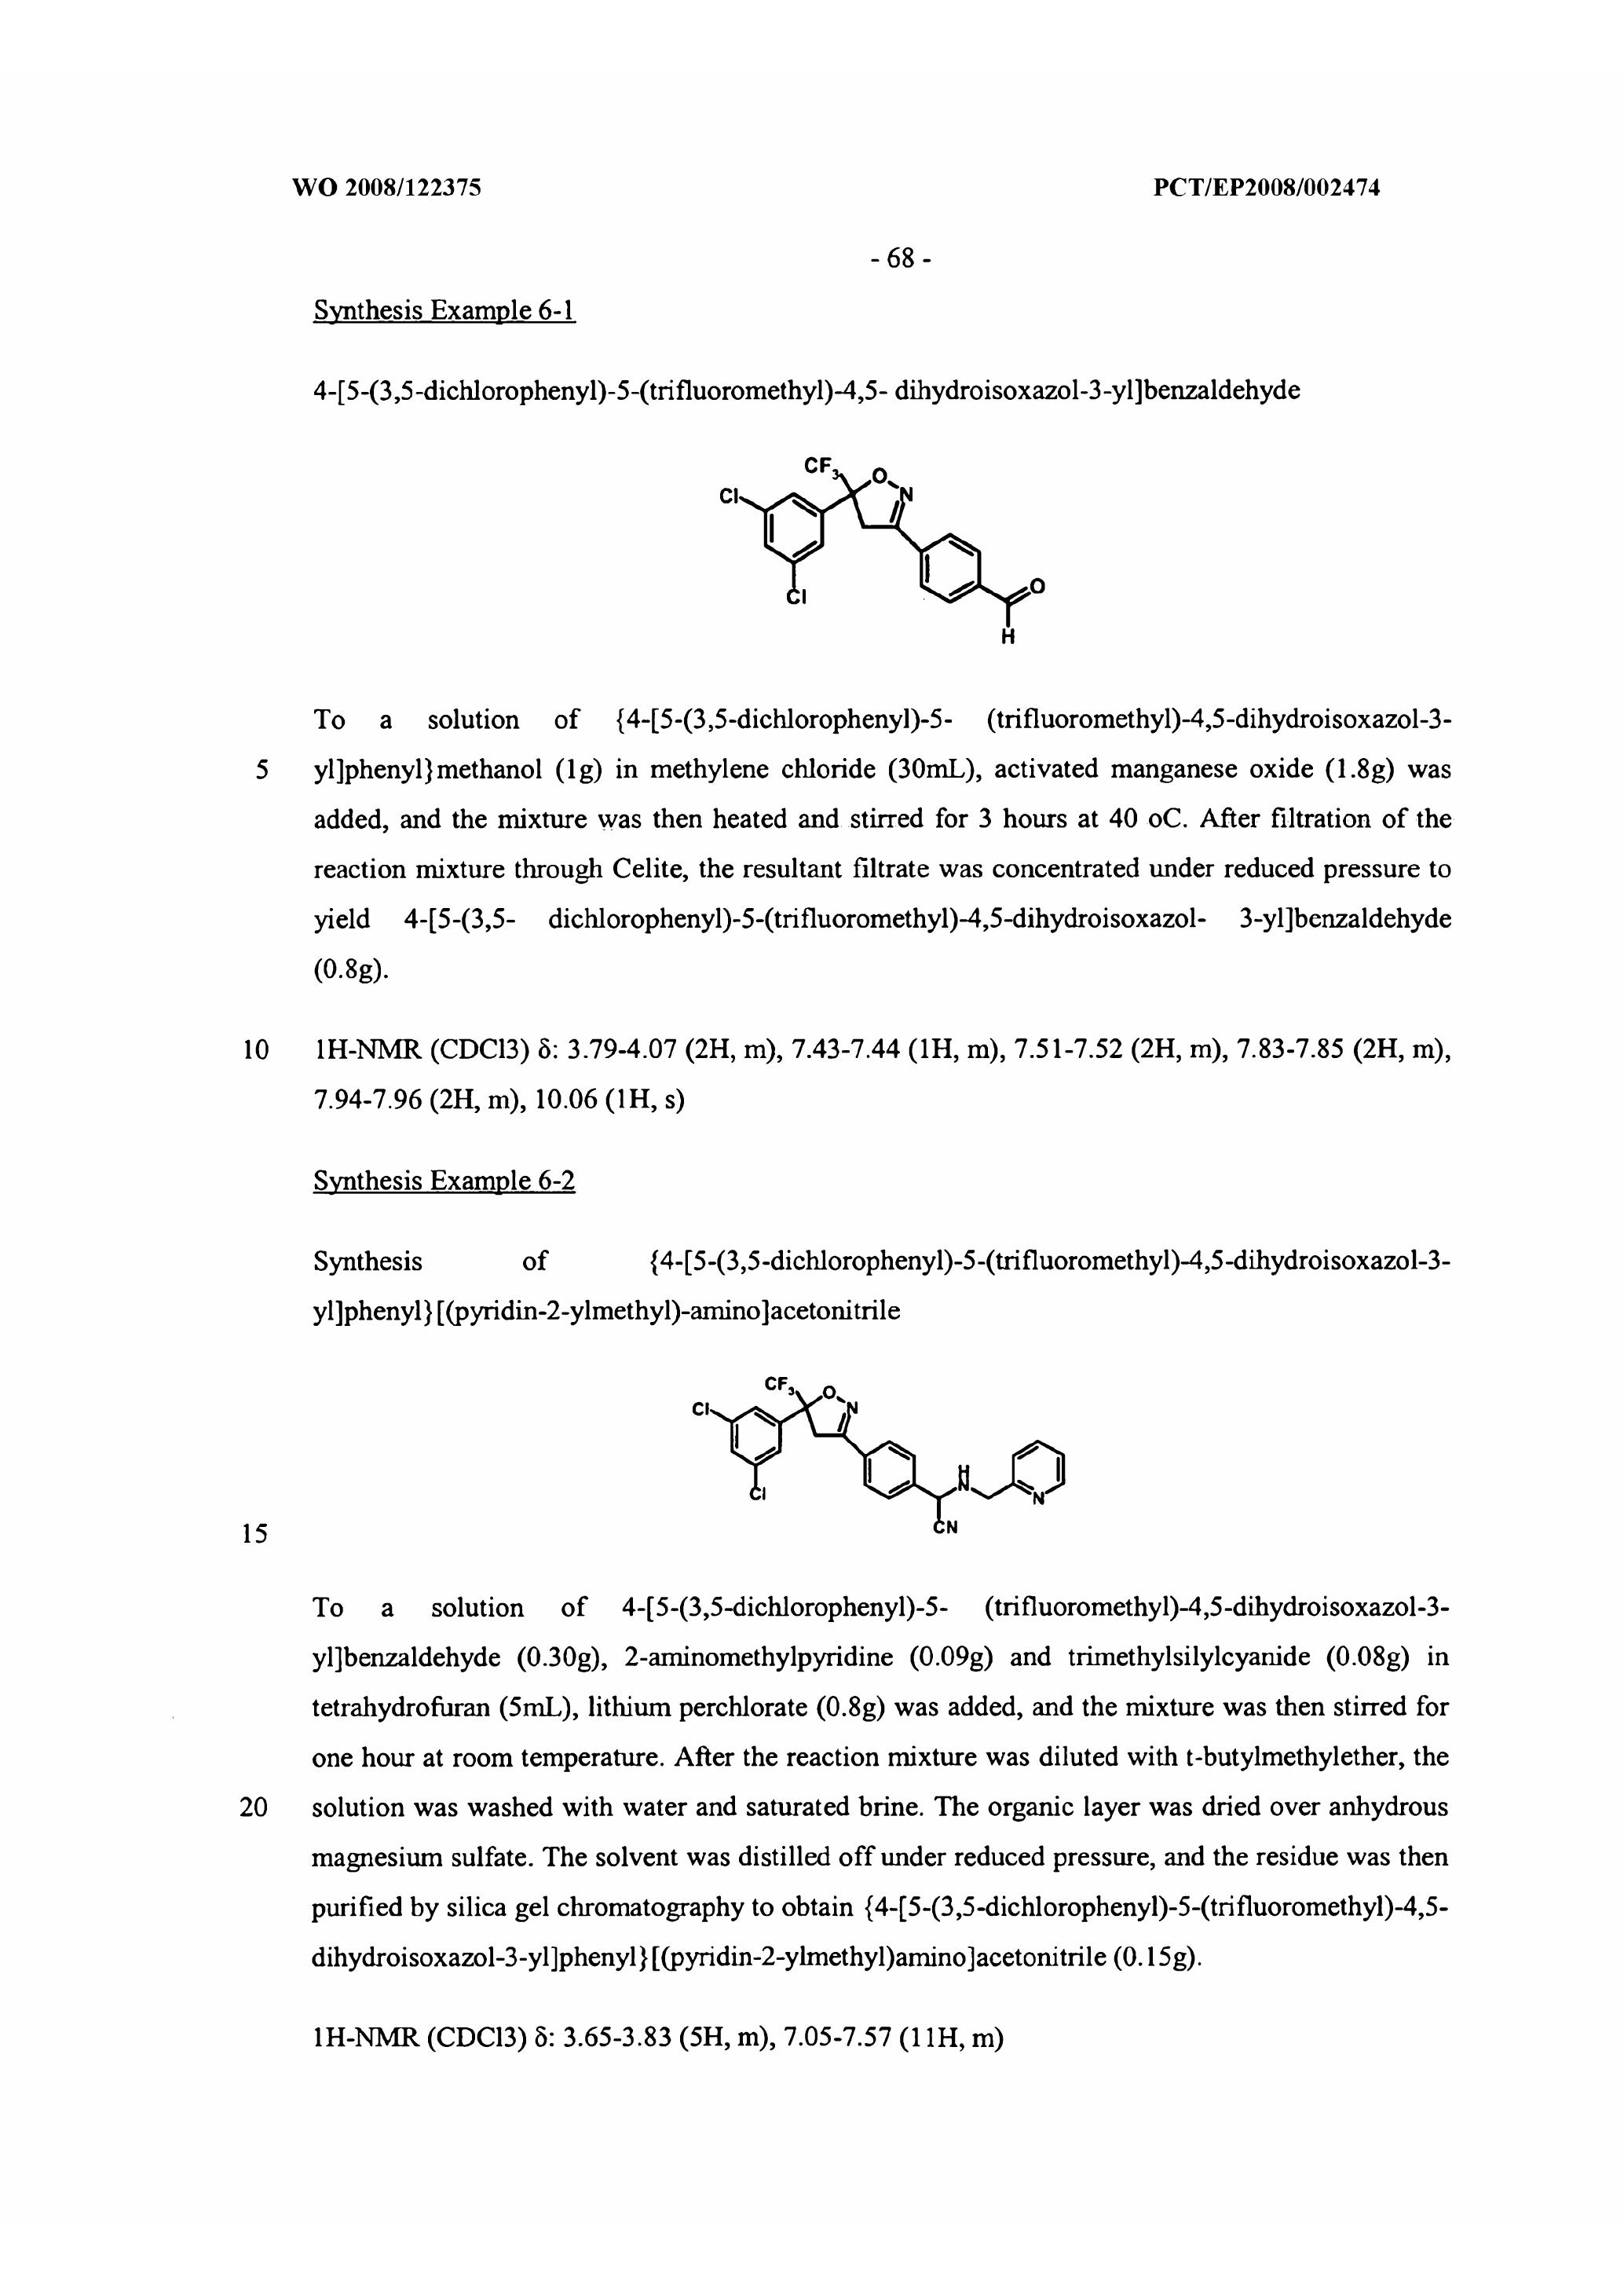relevant-structures: (649, 1329, 1255, 1593), (689, 441, 1100, 679)
